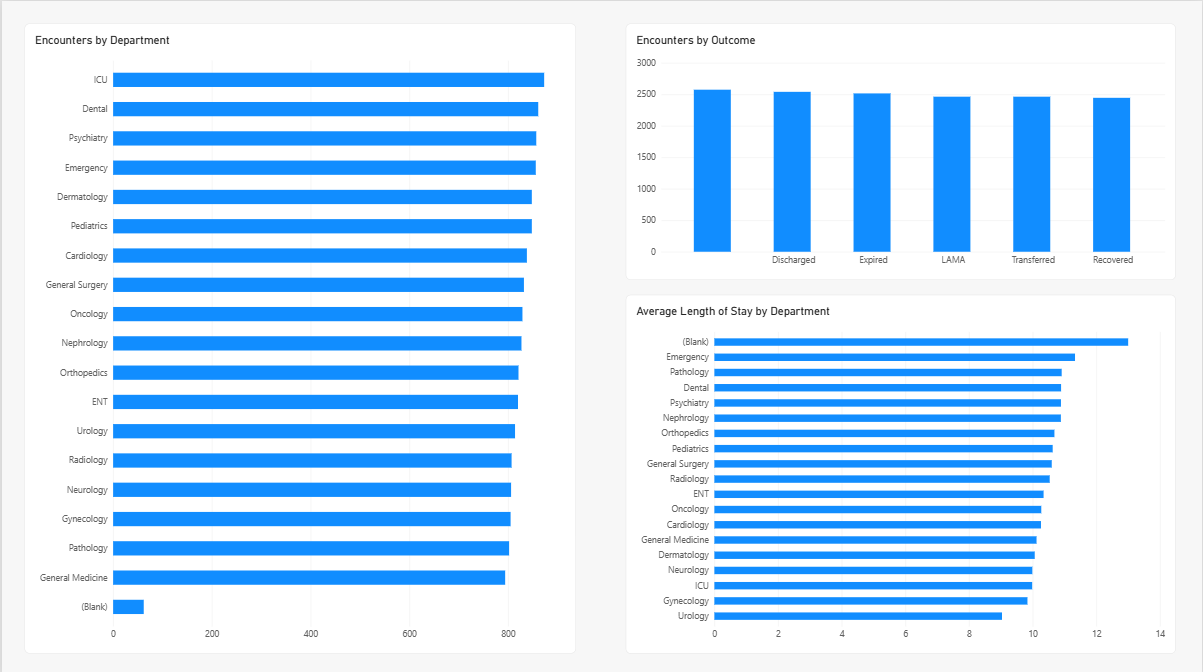

Layout of this report page (visuals, bound fields, positions):
{"tool":"powerbi","page":{"name":"Patients & Encounters","canvas":[1920,1080],"ordinal":1},"visuals":[{"type":"clusteredBarChart","title":"Encounters by Department","fields":{"Category":["02_departments_cleaned.Department_Name"],"Y":["05_encounters_cleaned.Total Encounters"]},"box":[36,36,882,1008],"z":0},{"type":"clusteredColumnChart","title":"Encounters by Outcome","fields":{"Category":["05_encounters_cleaned.Outcome"],"Y":["05_encounters_cleaned.Total Encounters"]},"box":[998,36,880,410],"z":1000},{"type":"clusteredBarChart","title":"Average Length of Stay by Department","fields":{"Category":["02_departments_cleaned.Department_Name"],"Y":["05_encounters_cleaned.Average Length of Stay"]},"box":[998,470,880,574],"z":2000}]}

Visuals, with their boxes in screenshot pixels (x1, y1, x2, y2), scaled from the page's 1920x1080 canvas onto the 1203x672 screenshot:
"Encounters by Department" clusteredBarChart: (left=23, top=22, right=575, bottom=650)
"Encounters by Outcome" clusteredColumnChart: (left=625, top=22, right=1177, bottom=278)
"Average Length of Stay by Department" clusteredBarChart: (left=625, top=292, right=1177, bottom=650)
